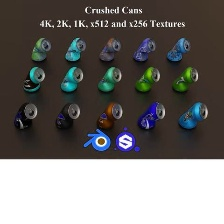can: (134, 98, 172, 134), (174, 99, 211, 134), (52, 97, 84, 134), (9, 99, 42, 132), (95, 99, 126, 133), (16, 64, 48, 95), (160, 35, 194, 64), (170, 65, 201, 96), (132, 64, 163, 95), (93, 64, 125, 94), (58, 65, 87, 95), (60, 35, 89, 63), (130, 34, 157, 64), (97, 36, 124, 64), (29, 34, 53, 62)
